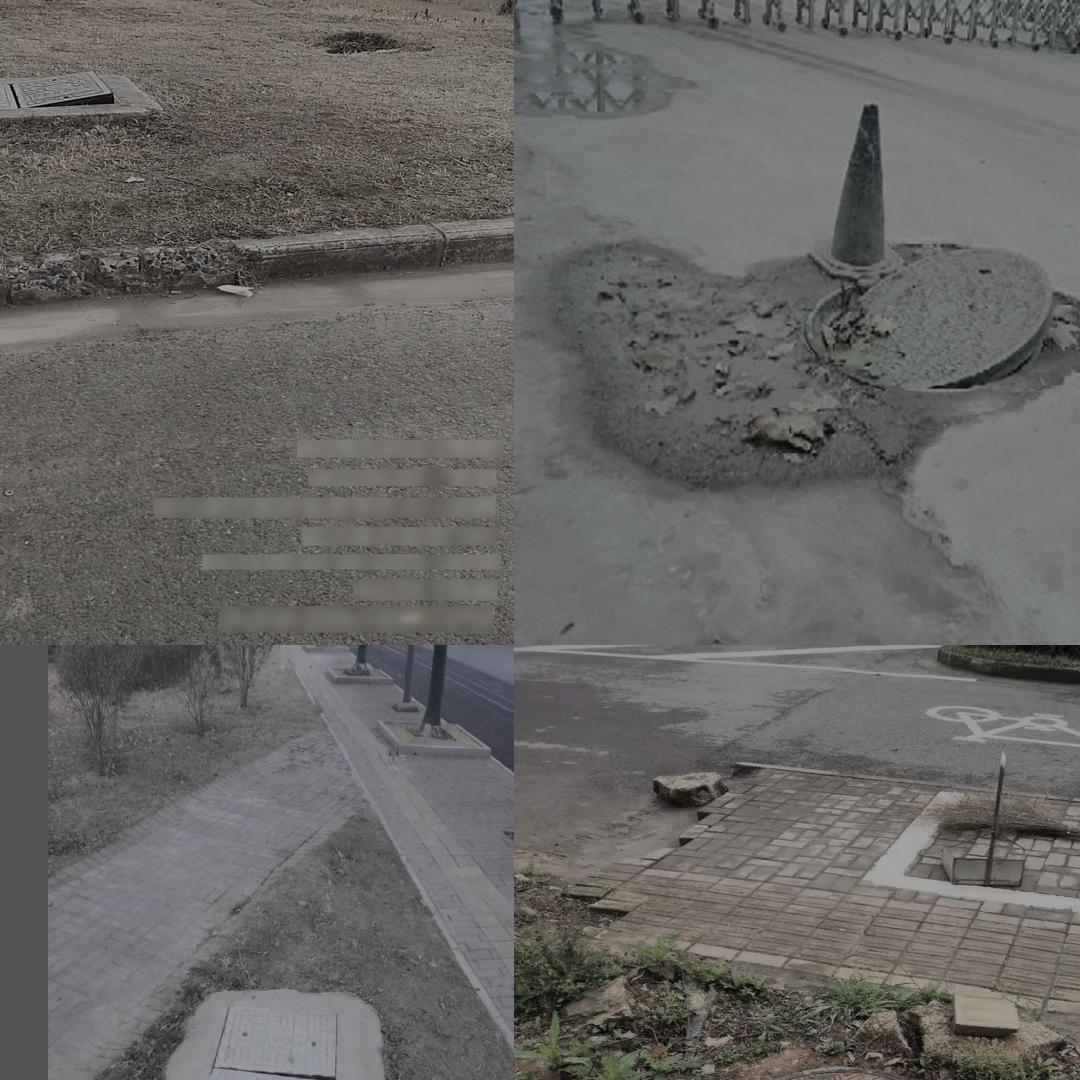uncovered: (803, 247, 1055, 386), (187, 995, 343, 1080), (0, 66, 129, 114), (675, 1068, 985, 1080)
